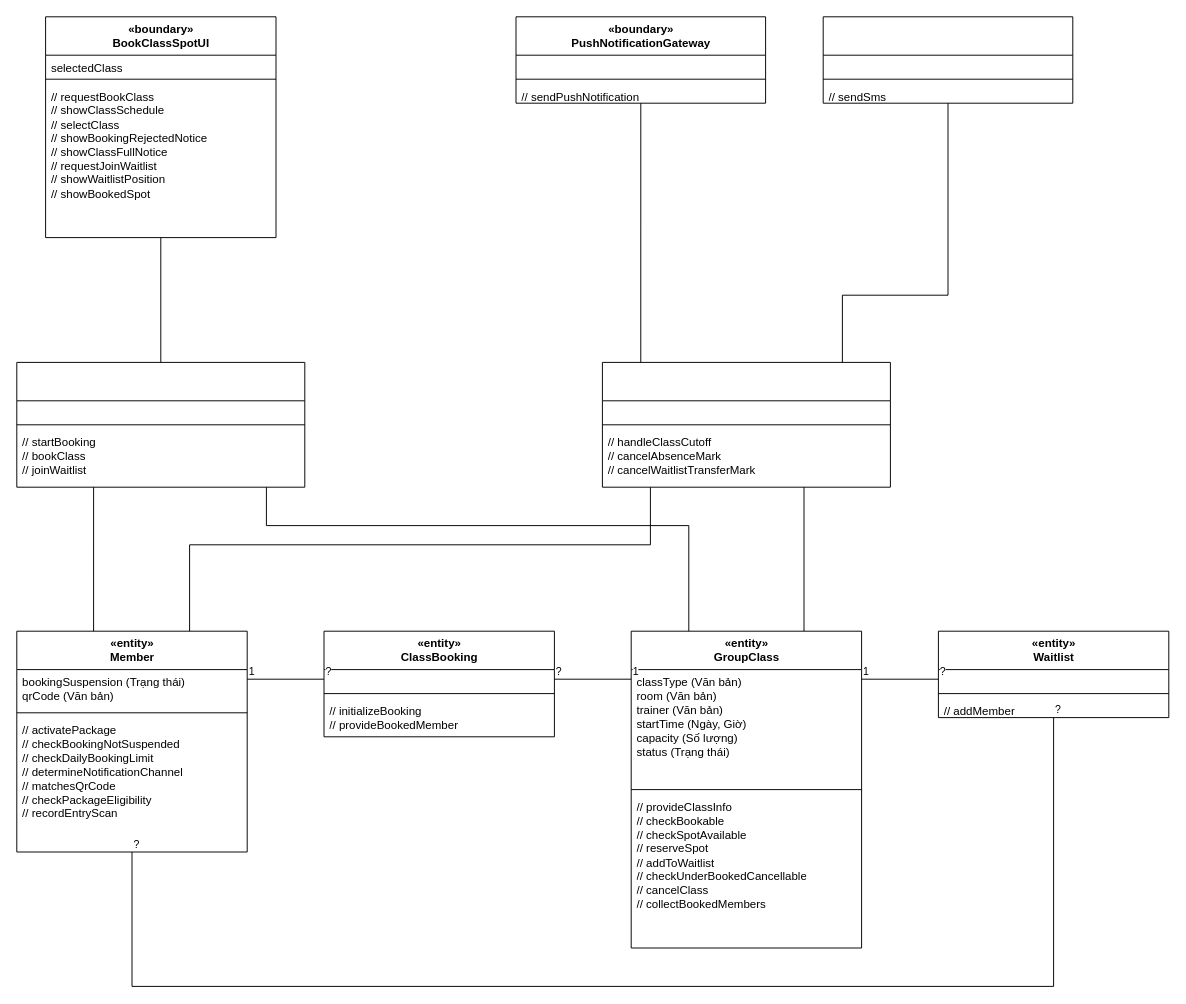
Image size: 1186x1004. Some labels were removed from this diagram. The box of each missing label's shape, as (x1, y1, x2, y2) in pixels:
«boundary» SmsGateway: (822, 16, 1073, 103)
«control» BookClassSpotHandler: (16, 361, 305, 487)
«control» CancelUnderBookedClassHandler: (601, 361, 890, 487)
